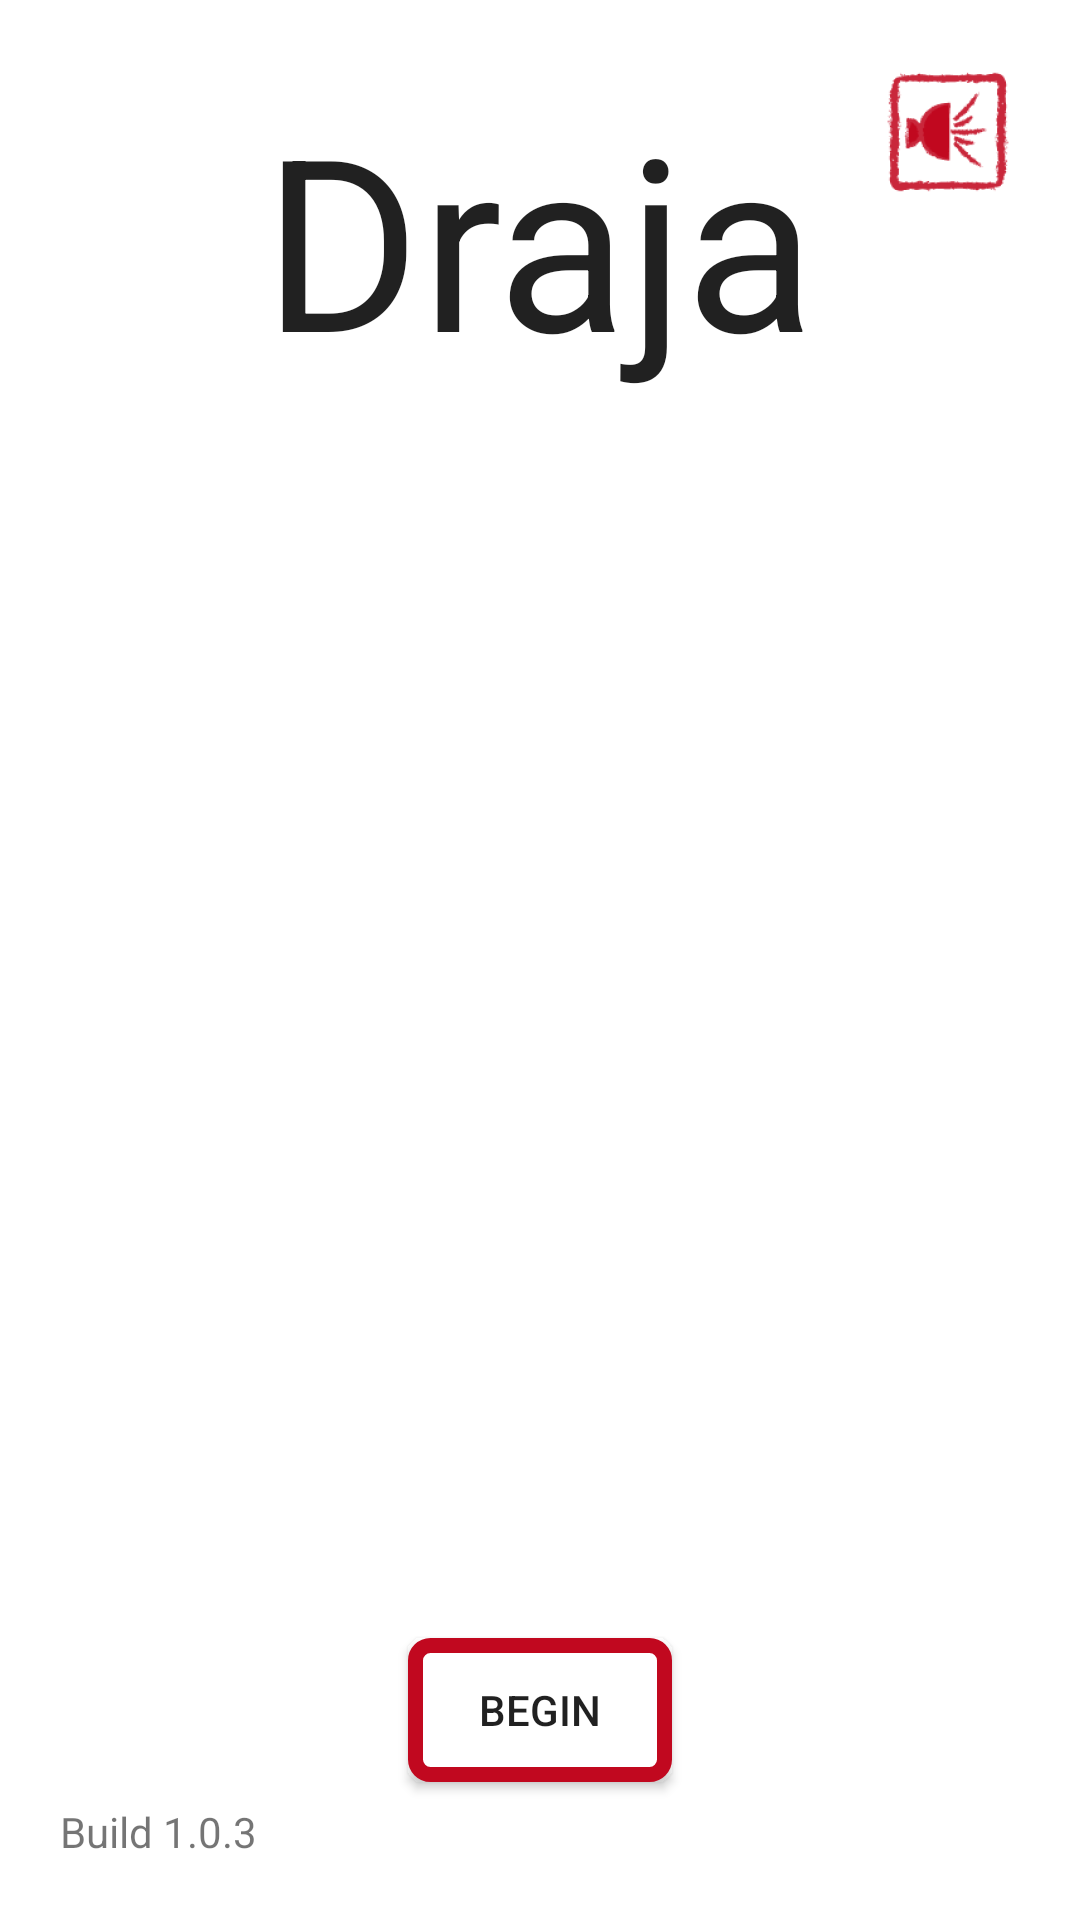

Icon click points for this 1080w x 1920h phone screenshot, format (x,y):
Toggle audio on/off: (948,132)
